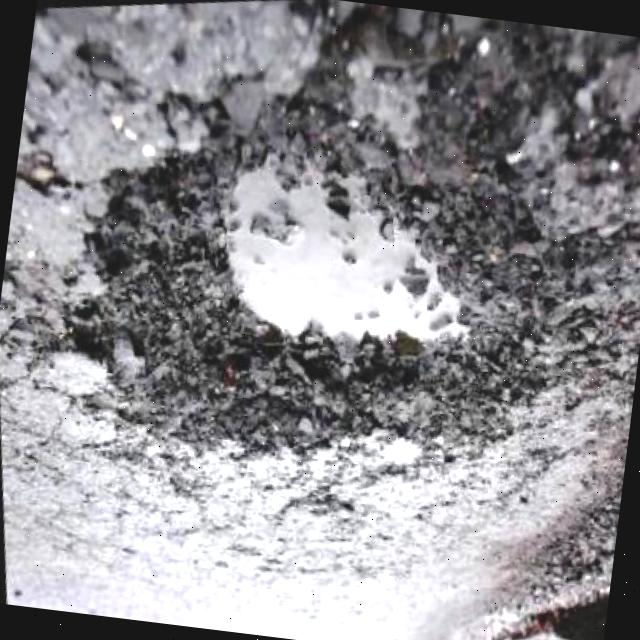pothole: (27, 40, 608, 515)
